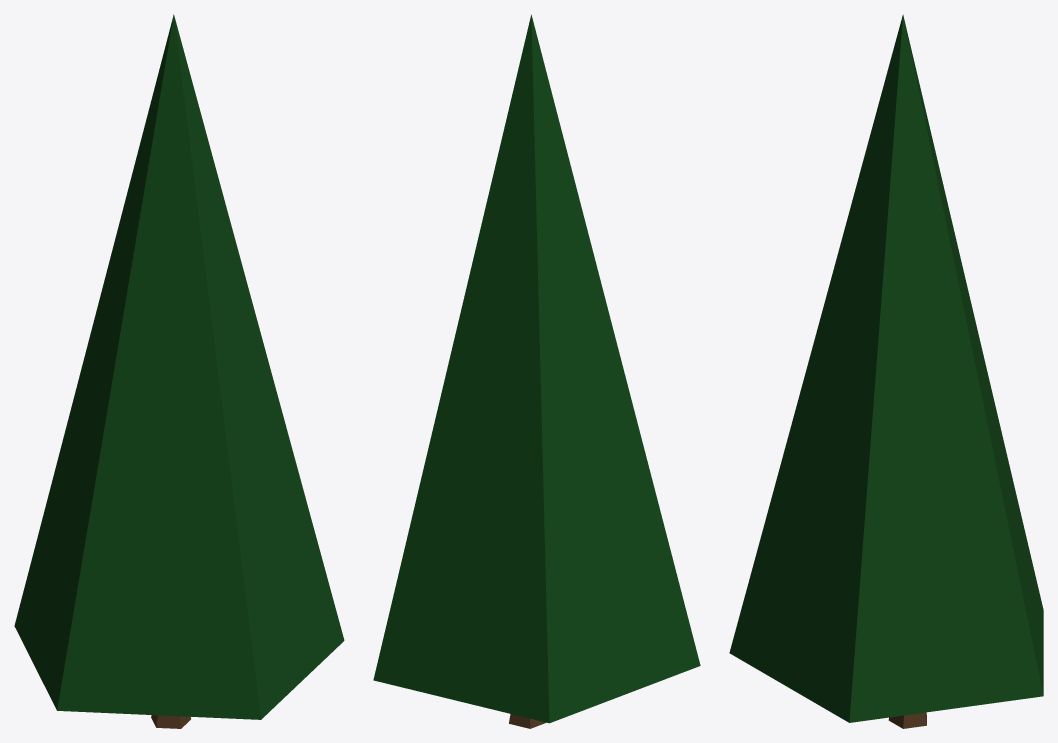
Rendered from land_tree_fir_far.glb.
3 renders of one model, left to right at view 1: azimuth 30°, elevation 25°; view 2: azimuth 150°, elevation 25°; view 3: azimuth 270°, elevation 25°, orthographic.
Bounding box in the file's own units: 4.45 × 10.5 × 4.23.
